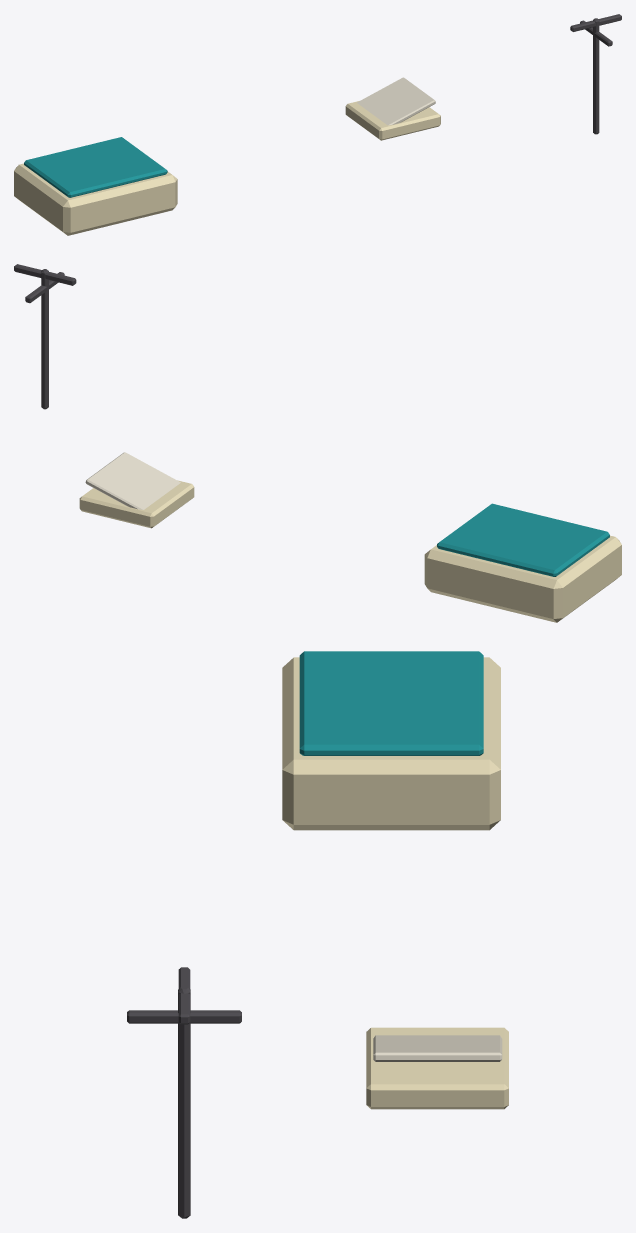
Rendered from trailer_roof.glb.
3 renders of one model, top to bottom at view 1: azimuth 30°, elevation 25°; view 2: azimuth 150°, elevation 25°; view 3: azimuth 270°, elevation 25°, orthographic. The views are drawn at different scales.
Parts seen in each view (by area): view 1: trailer_roof; view 2: trailer_roof; view 3: trailer_roof.
Boxes of the visible parts, x1=… form: trailer_roof: x1=14, y1=14, x2=621, y2=235; trailer_roof: x1=14, y1=264, x2=621, y2=622; trailer_roof: x1=127, y1=651, x2=508, y2=1218.
Bounding box in the file's own units: 5.33 × 1.1 × 1.66.
